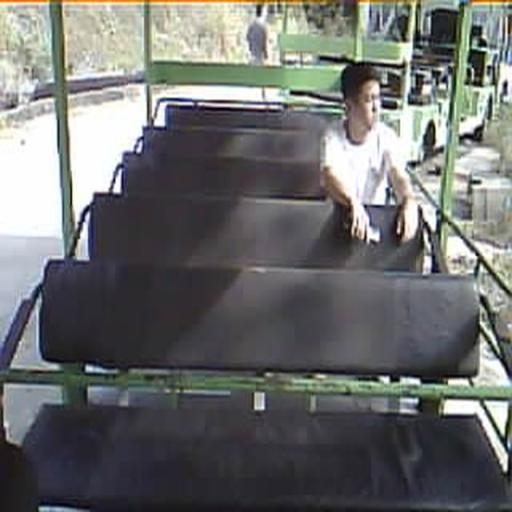persona: (321, 62, 418, 246)
